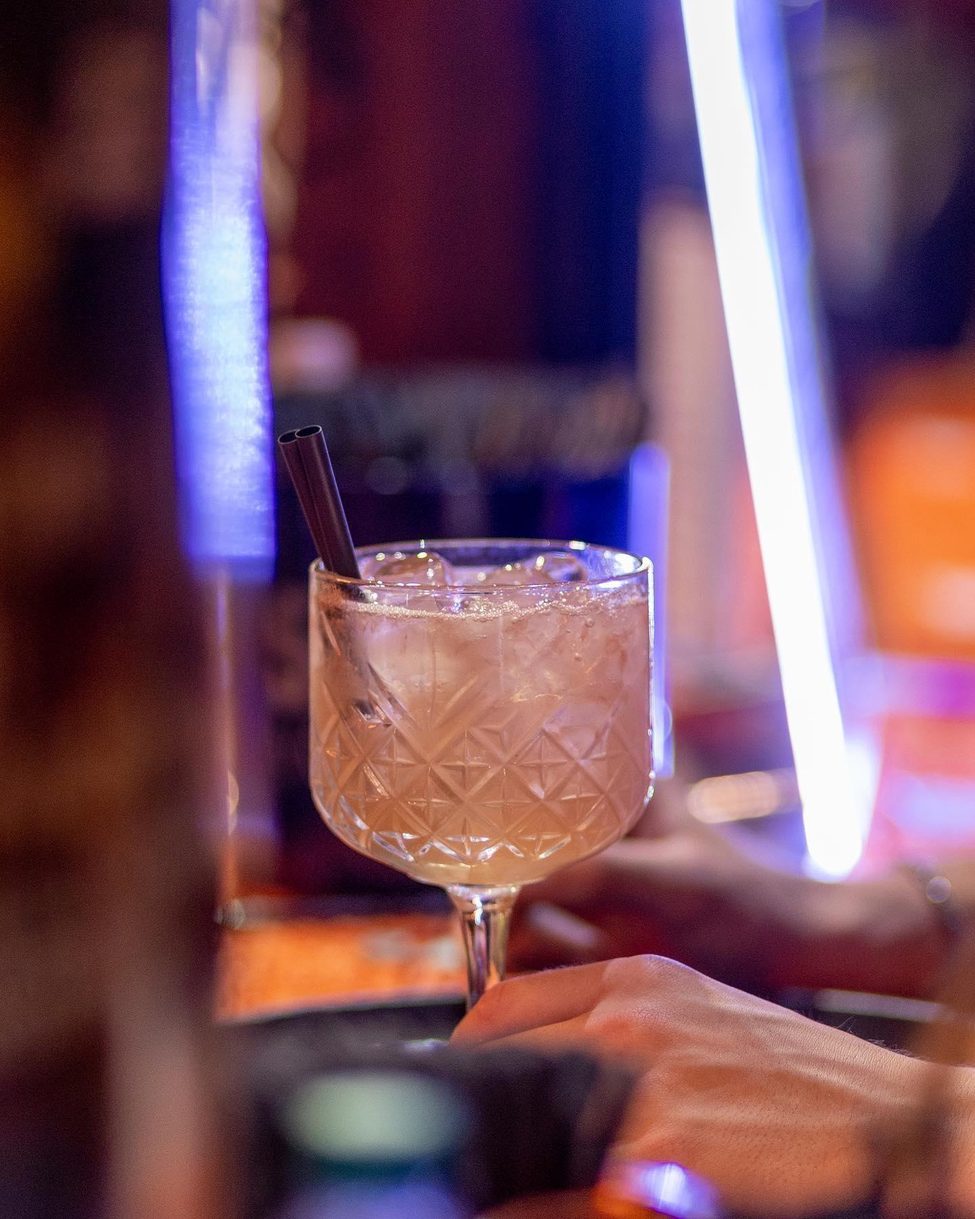glass-wine: (297, 522, 682, 1033)
